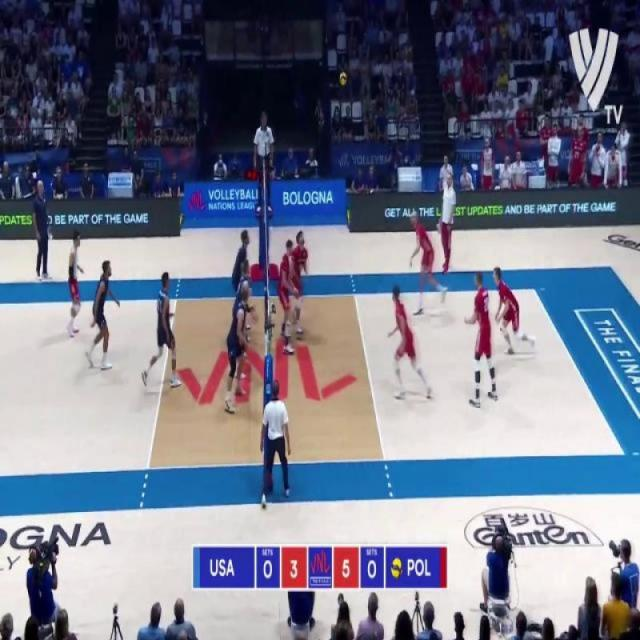volleyball: (338, 72, 348, 86)
